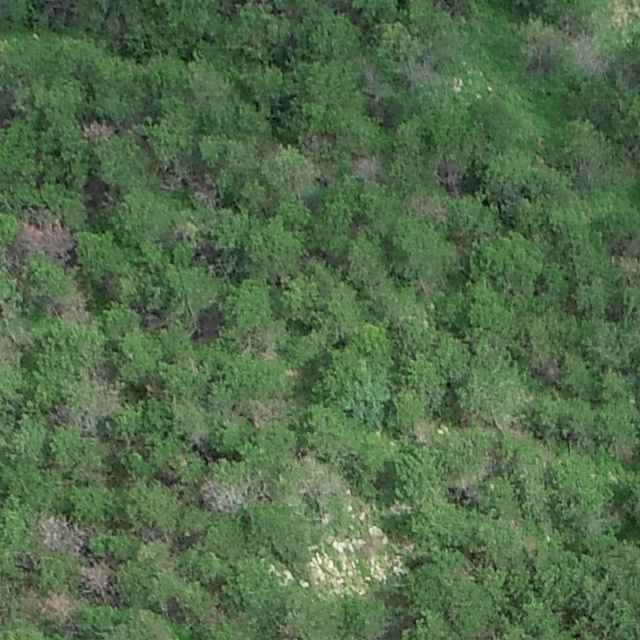unhealthy: (256, 138, 326, 197), (65, 373, 116, 430), (15, 218, 76, 257), (197, 473, 251, 511), (38, 514, 86, 554), (519, 20, 561, 65), (569, 31, 606, 76), (79, 558, 117, 601), (180, 170, 220, 206), (434, 149, 465, 195), (34, 589, 77, 622), (241, 326, 279, 361), (409, 192, 449, 224), (54, 290, 90, 324), (0, 325, 24, 370), (246, 397, 282, 426), (350, 152, 384, 182), (616, 231, 640, 271), (81, 117, 118, 142), (276, 619, 298, 639)
